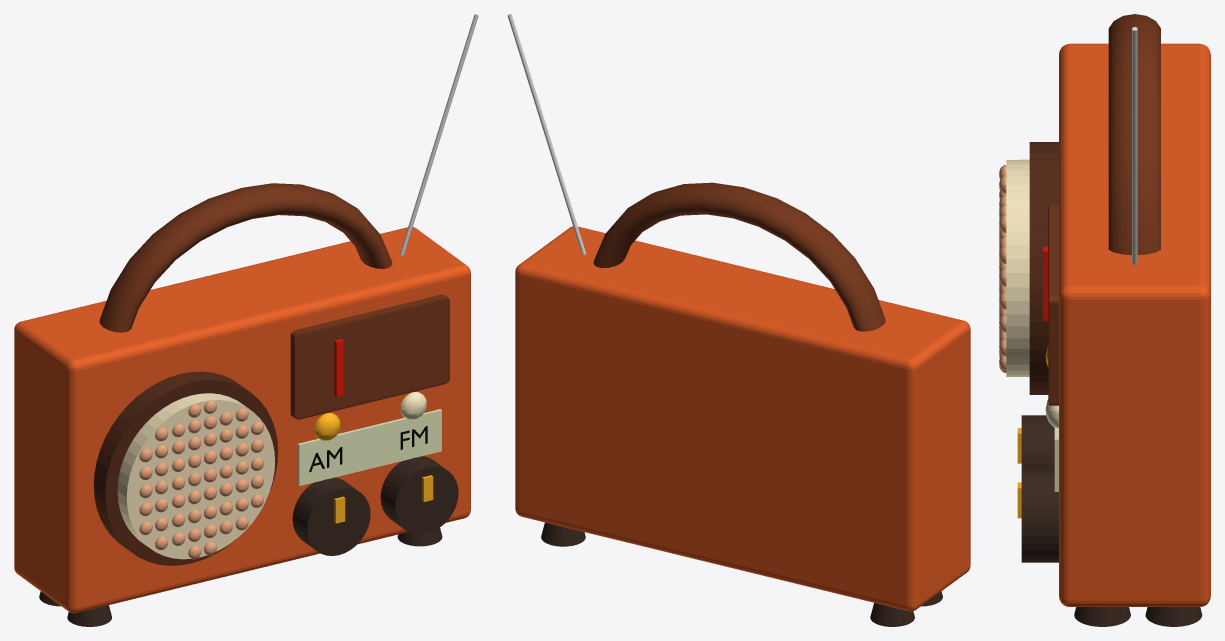
Rendered from Radio.glb.
3 views of the same model, side by side, from view 1: azimuth 30°, elevation 25°; view 2: azimuth 150°, elevation 25°; view 3: azimuth 270°, elevation 25° (orthographic). The views are drawn at different scales.
Visible parts, largest first — view 1: Cuerpo_Radio, Pantalla_Radio, Base_Parlante2, Manija_Radio, Base_Parlante, Cubo, Perilla1, Perilla, Antena_Radio, Pata_Radio1; view 2: Cuerpo_Radio, Manija_Radio, Antena_Radio, Pata_Radio4, Pata_Radio2; view 3: Cuerpo_Radio, Manija_Radio, Base_Parlante2, Base_Parlante, Perilla, Pantalla_Radio, Perilla1, Antena_Radio, Pata_Radio3, Pata_Radio4, Barra_Radio, Cubo.
Part boxes in pixels (box(x1,y1,x2,y2)): Cuerpo_Radio: box(14, 227, 470, 613); Pantalla_Radio: box(290, 294, 449, 419); Base_Parlante2: box(117, 393, 274, 559); Manija_Radio: box(99, 183, 392, 332); Base_Parlante: box(93, 371, 278, 565); Cubo: box(297, 409, 441, 485); Perilla1: box(292, 477, 370, 555); Perilla: box(380, 456, 458, 534); Antena_Radio: box(399, 14, 478, 255); Pata_Radio1: box(67, 605, 111, 626); Cuerpo_Radio: box(515, 226, 970, 611); Manija_Radio: box(593, 182, 885, 331); Antena_Radio: box(507, 14, 586, 254); Pata_Radio4: box(541, 522, 585, 546); Pata_Radio2: box(870, 603, 914, 626); Cuerpo_Radio: box(1059, 43, 1210, 606); Manija_Radio: box(1108, 14, 1160, 254); Base_Parlante2: box(1006, 159, 1029, 376); Base_Parlante: box(1029, 142, 1058, 394); Perilla: box(1021, 469, 1058, 562); Pantalla_Radio: box(1048, 204, 1058, 405); Perilla1: box(1021, 415, 1054, 469); Antena_Radio: box(1132, 27, 1137, 264); Pata_Radio3: box(1074, 607, 1130, 626); Pata_Radio4: box(1145, 607, 1202, 626); Barra_Radio: box(1043, 246, 1048, 320); Cubo: box(1054, 427, 1058, 491).
Size of the model in its own units: 7.6 by 8.24 by 2.51.
